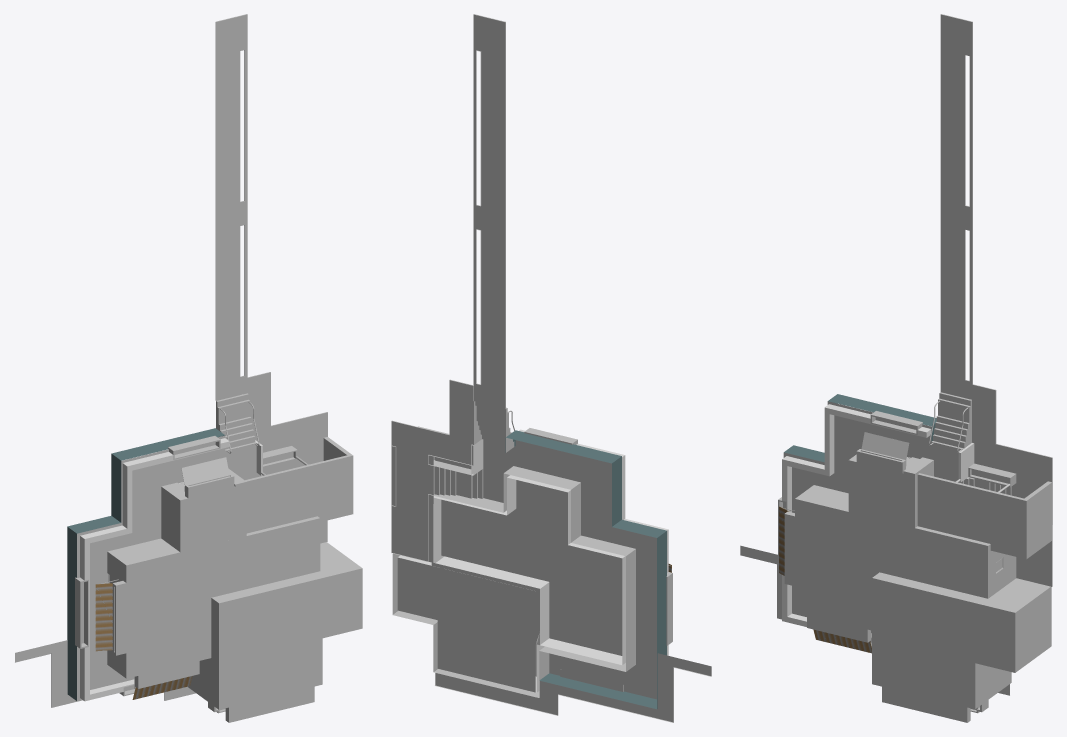
Rendered from villahouse_wtf.obj.
3 renders of one model, left to right at view 1: azimuth 30°, elevation 25°; view 2: azimuth 150°, elevation 25°; view 3: azimuth 330°, elevation 25°, orthographic. The views are drawn at different scales.
Parts seen in each view (by area): view 1: group70, group49, group61, group59, group71, group76, group75, group72, group73, group55, group38, group60 (+6 smaller); view 2: group64, group63, group49, group61, group71, group70, group69, group72, group76, group73, group74, group75; view 3: group70, group49, group59, group71, group61, group75, group73, group56, group55, group76, group57, group37 (+7 smaller).
Boxes of the visible parts, x1,y1,x2,y2 form: group70: (107, 481, 362, 709); group49: (215, 14, 247, 400); group61: (77, 435, 256, 701); group59: (245, 454, 353, 533); group71: (247, 372, 327, 543); group76: (67, 428, 224, 700); group75: (80, 438, 229, 701); group72: (15, 640, 195, 707); group73: (216, 393, 256, 450); group55: (225, 686, 314, 722); group38: (95, 583, 112, 651); group60: (112, 581, 126, 655); group64: (441, 480, 622, 655); group63: (397, 557, 539, 692); group49: (473, 14, 505, 408); group61: (483, 439, 656, 699); group71: (391, 379, 473, 562); group70: (392, 466, 635, 697); group69: (398, 475, 625, 692); group72: (435, 653, 711, 722); group76: (505, 430, 666, 709); group73: (474, 401, 514, 452); group74: (433, 466, 483, 498); group75: (519, 429, 668, 655); group70: (795, 454, 1051, 709); group49: (940, 14, 972, 399); group59: (917, 473, 1028, 559); group71: (972, 384, 1052, 586); group61: (783, 401, 962, 632); group75: (782, 404, 931, 638); group73: (932, 392, 971, 449); group56: (1024, 481, 1051, 557); group55: (882, 686, 970, 722); group76: (784, 394, 936, 462); group57: (807, 615, 870, 642); group37: (861, 432, 909, 460).
Bounding box in the file's own units: 322 × 660 × 65.09.
